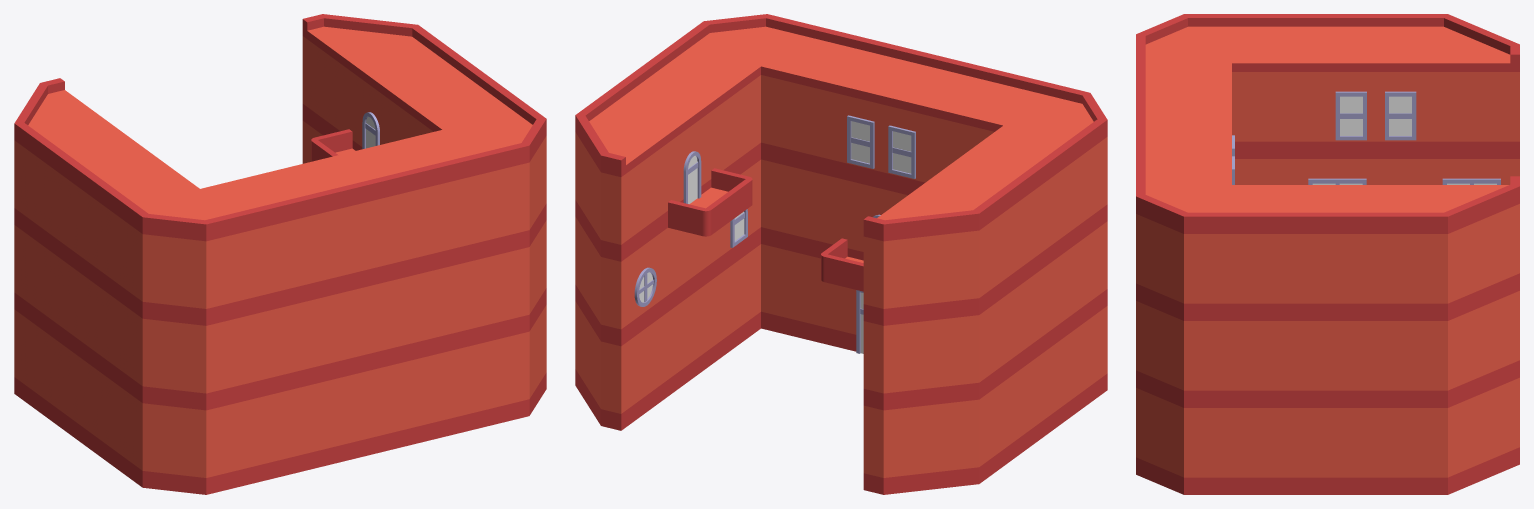
The model's file is House 2.fbx.
The picture shows the model from 3 angles, left to right: view 1: azimuth 30°, elevation 25°; view 2: azimuth 150°, elevation 25°; view 3: azimuth 270°, elevation 25°; orthographic projection. The views are drawn at different scales.
Visible parts, largest first — view 1: mergedBlocks; view 2: mergedBlocks; view 3: mergedBlocks.
Part boxes in pixels (x1,y1,x2,y2): mergedBlocks: (14, 14, 546, 494); mergedBlocks: (575, 14, 1107, 494); mergedBlocks: (1136, 14, 1519, 494).
Size of the model in its own units: 50 by 32 by 40.
